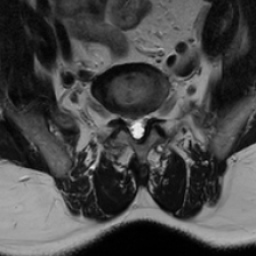CCS_normal: (133, 111, 140, 145)
LFS_stenosis: (148, 102, 156, 126)
LLS_normal: (140, 108, 147, 141)
RFS_severe_stenosis: (116, 104, 126, 127)
RLS_normal: (126, 109, 133, 139)
